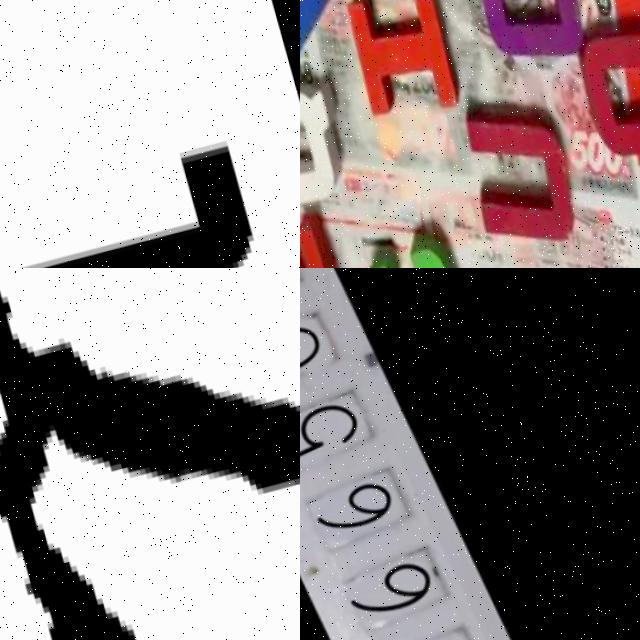0: (300, 312, 336, 401)
5: (300, 389, 371, 482)
6: (327, 550, 444, 640), (300, 467, 406, 559)
7: (0, 268, 300, 640)
E: (300, 204, 348, 268)
G: (461, 0, 590, 68)
I: (336, 0, 462, 126)
O: (563, 10, 640, 171)
Q: (300, 75, 350, 213)
T: (0, 135, 277, 268)
U: (447, 86, 579, 256)
